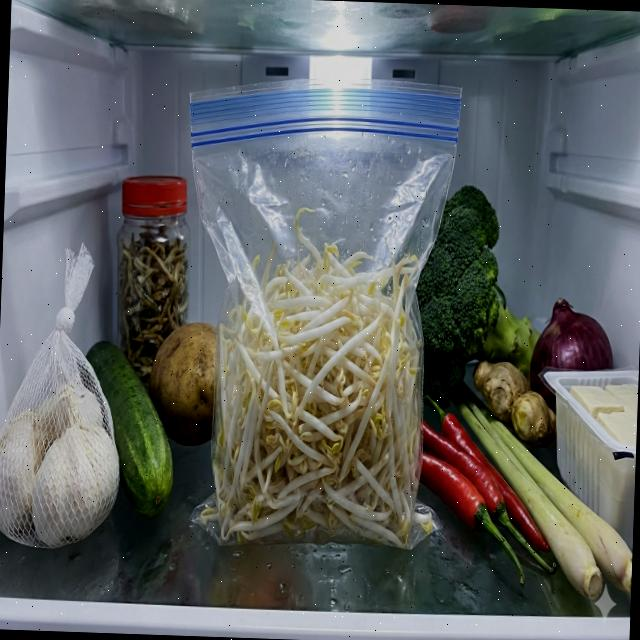anchovies: (114, 222, 192, 386)
bean_sprouts: (198, 204, 448, 552)
brocolli: (412, 182, 546, 400)
chili: (415, 395, 562, 589)
cucumber: (78, 338, 178, 520)
garlic: (0, 376, 123, 551)
ginger: (470, 360, 559, 450)
lemongrass: (444, 382, 637, 602)
onion: (528, 298, 616, 418)
potato: (146, 321, 218, 448)
tofu: (567, 380, 638, 450)
